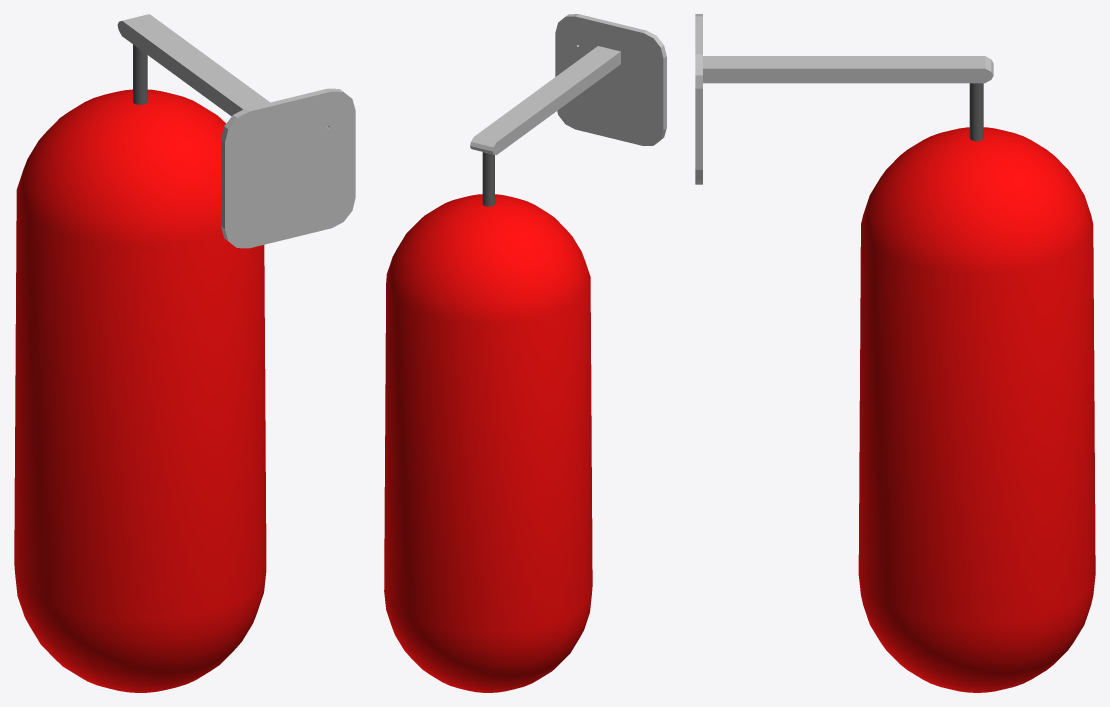
The model's file is punch.obj.
The picture shows the model from 3 angles, left to right: view 1: azimuth 30°, elevation 25°; view 2: azimuth 150°, elevation 25°; view 3: azimuth 270°, elevation 25°; orthographic projection. The views are drawn at different scales.
Parts seen in each view (by area): view 1: part, base; view 2: part, base; view 3: part, base.
Part boxes in pixels (<box>): part: <box>14,44,266,692</box>; base: <box>117,14,355,248</box>; part: <box>384,152,592,692</box>; base: <box>470,14,666,155</box>; part: <box>858,83,1095,692</box>; base: <box>695,14,993,184</box>.
Size of the model in its own units: 0.8459 by 2.55 by 1.43.
Materials: 2 (2 with a texture image).
